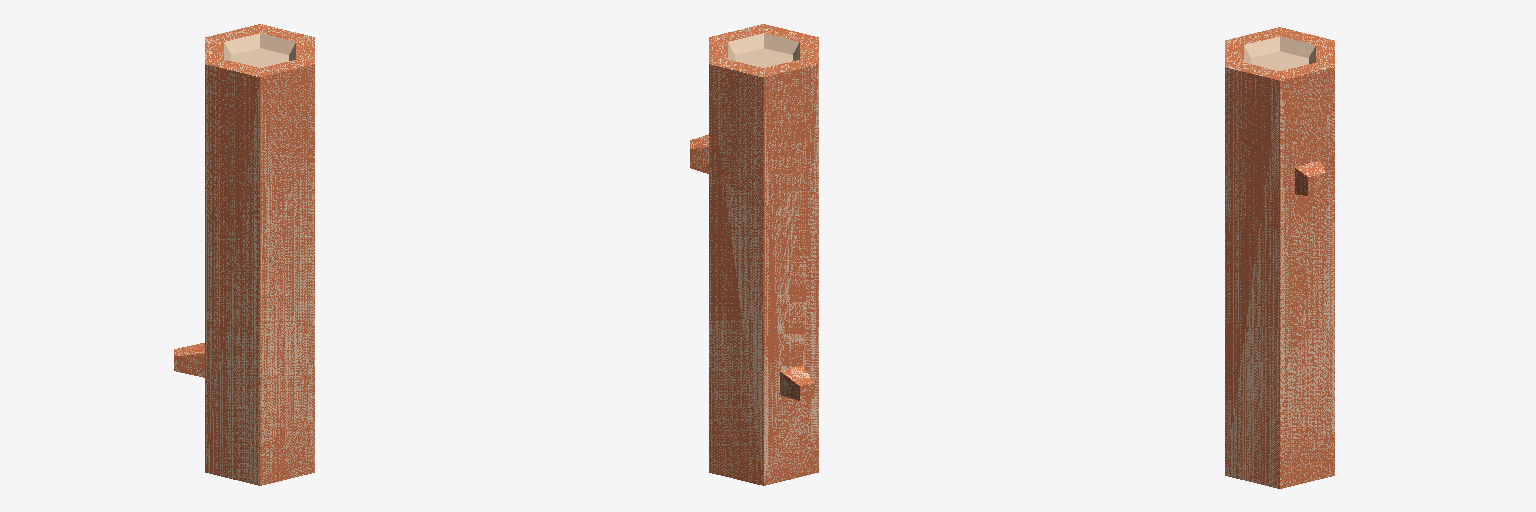
The model's file is log.obj.
The picture shows the model from 3 angles: view 1: azimuth 30°, elevation 25°; view 2: azimuth 150°, elevation 25°; view 3: azimuth 270°, elevation 25°; orthographic projection.
Parts seen in each view (by area): view 1: log; view 2: log; view 3: log.
Boxes of the visible parts, x1,y1,x2,y2 form: log: [174, 24, 314, 485]; log: [690, 24, 818, 485]; log: [1225, 27, 1334, 488].
Size of the model in its own units: 0.234 by 0.71 by 0.1732.